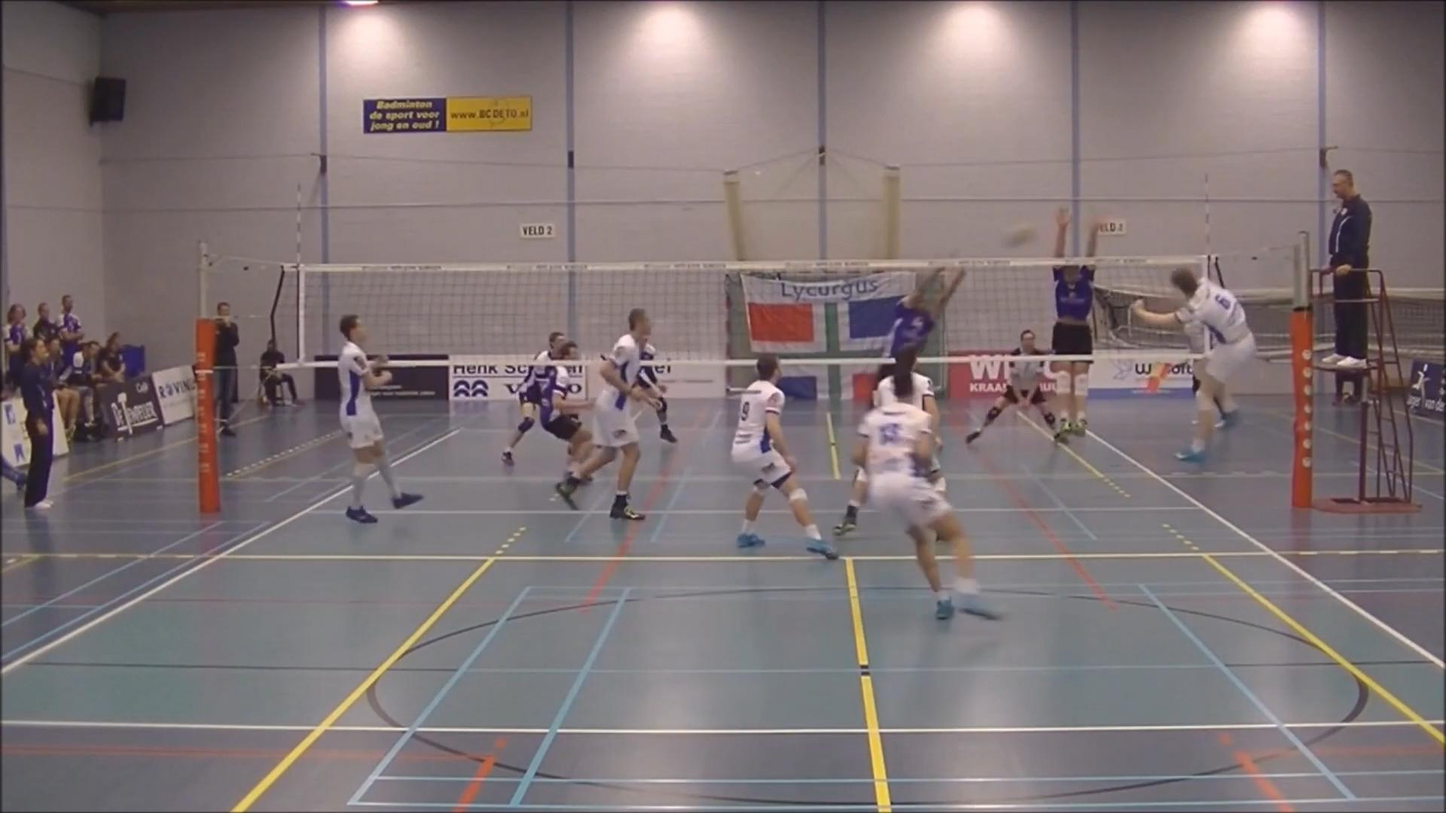attacco: (1114, 263, 1274, 470)
muro: (1033, 202, 1120, 448), (876, 245, 975, 391)
